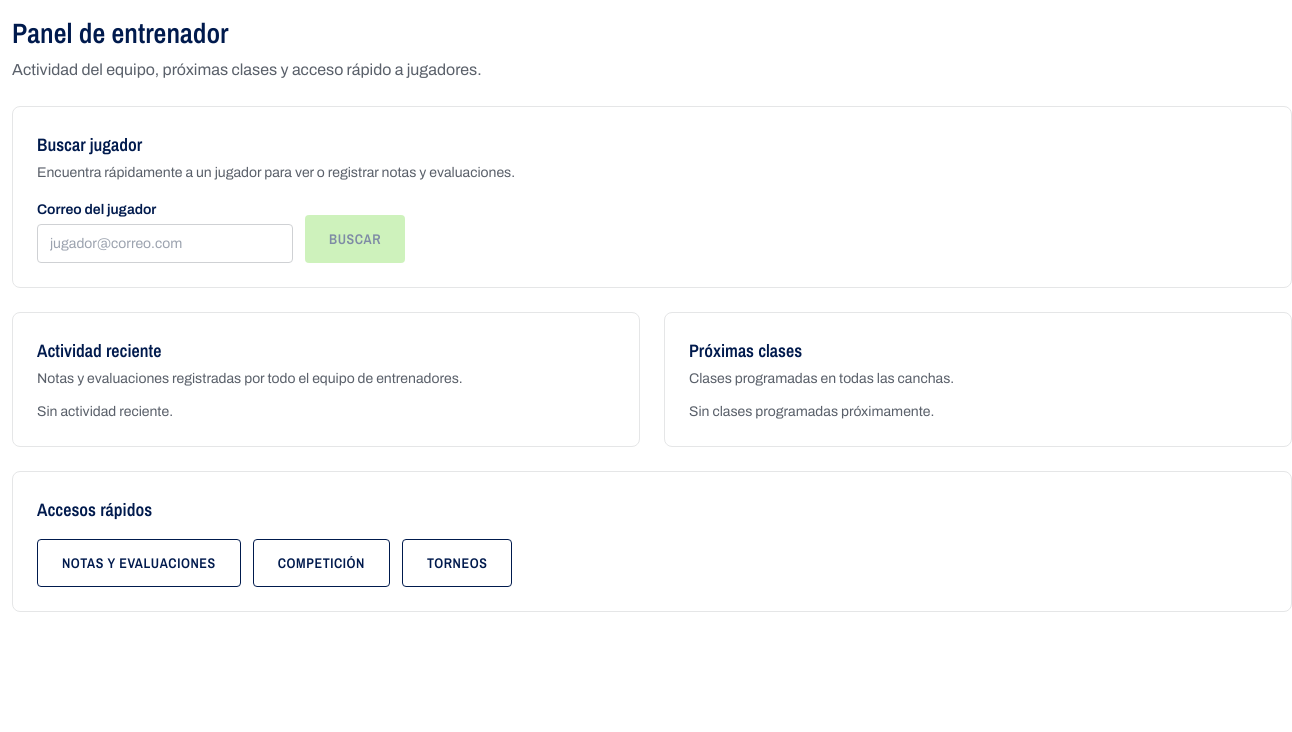
it: CoachDashboard › looks up a player by email and offers a shortcut to their notes
In the field labelled "Correo del jugador": point(165, 244) [37,224,293,263], type "ana@example.com"
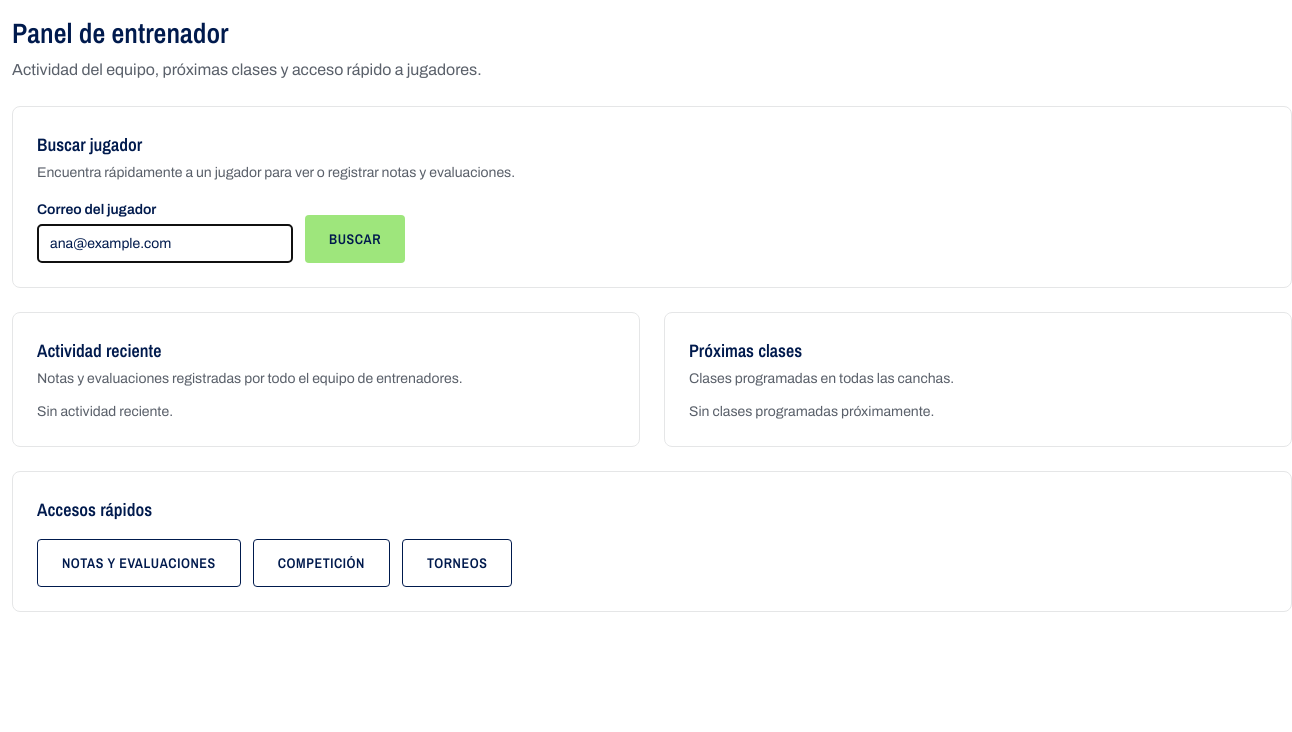
Click the button "Buscar": point(355, 239) [305,215,405,263]
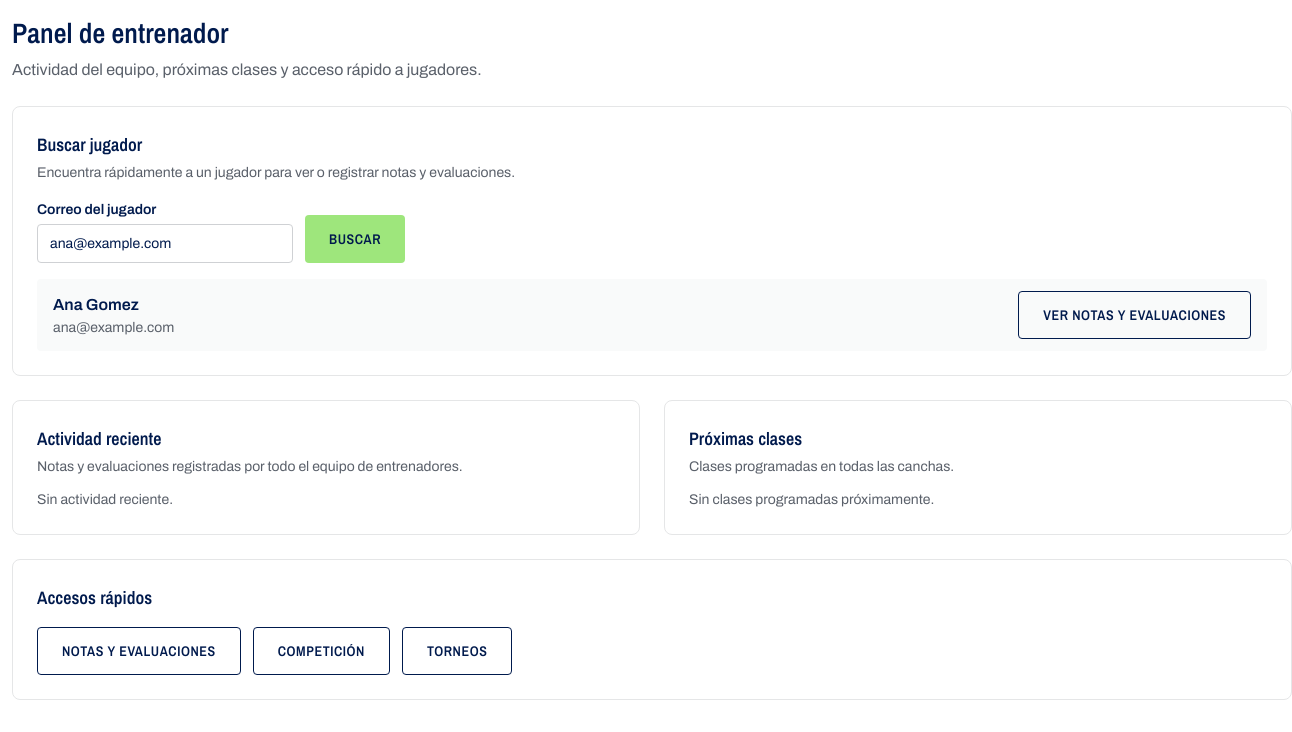
Result: the text "ana@example.com" is shown at [53,316,174,338]
